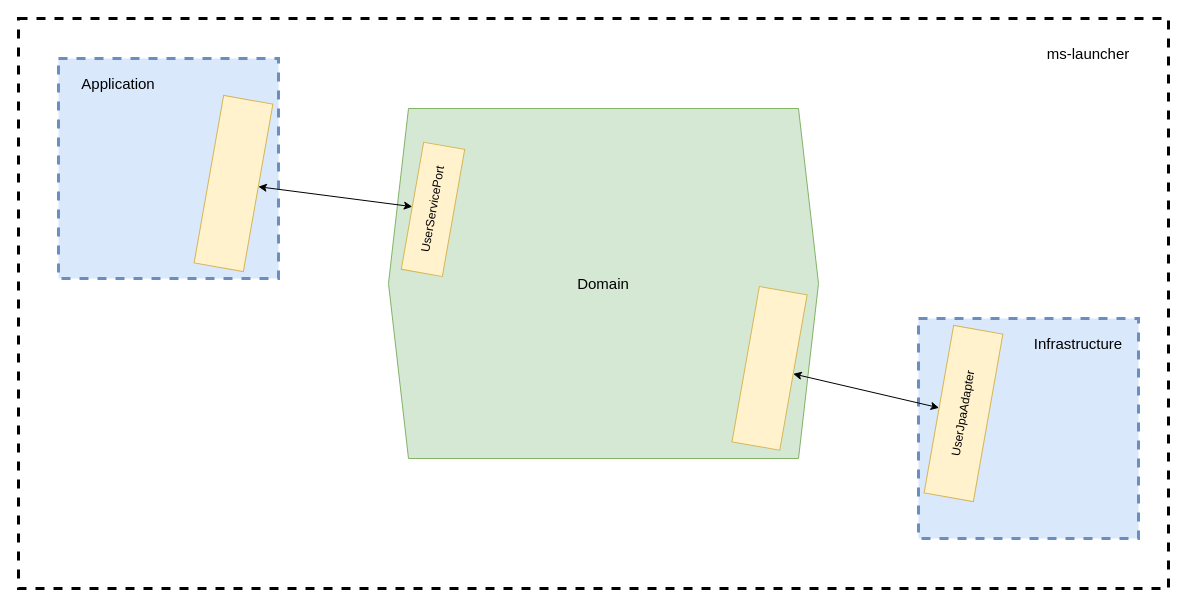
Image size: 1187x607. Some labels were removed from this diagram. The shapes that lost their labels are listed below. From the top down, each one's box as (x1, y1, x2, y2) in pixels, then its label:
(193, 94, 273, 272): UserController
(731, 285, 807, 450): UserPersistentPort
